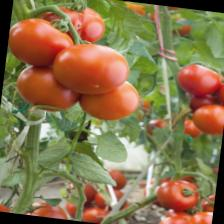tomato: (47, 38, 133, 98), (5, 12, 78, 72), (12, 61, 83, 115), (38, 0, 109, 47)
